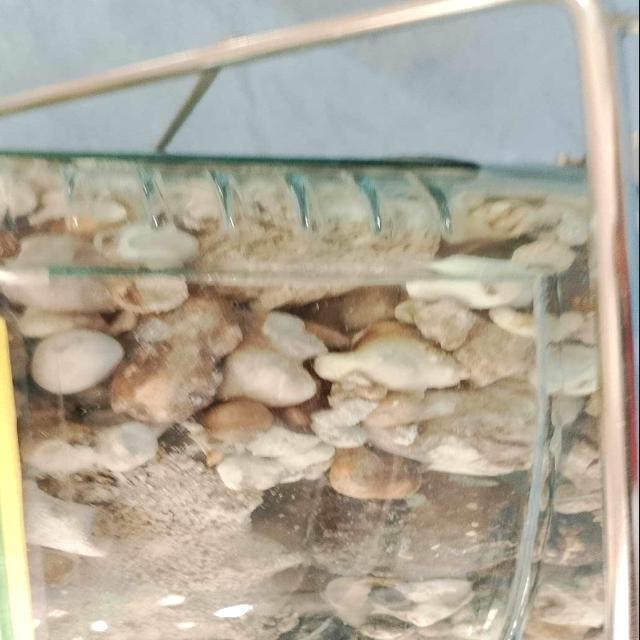General: (4, 157, 606, 636)
